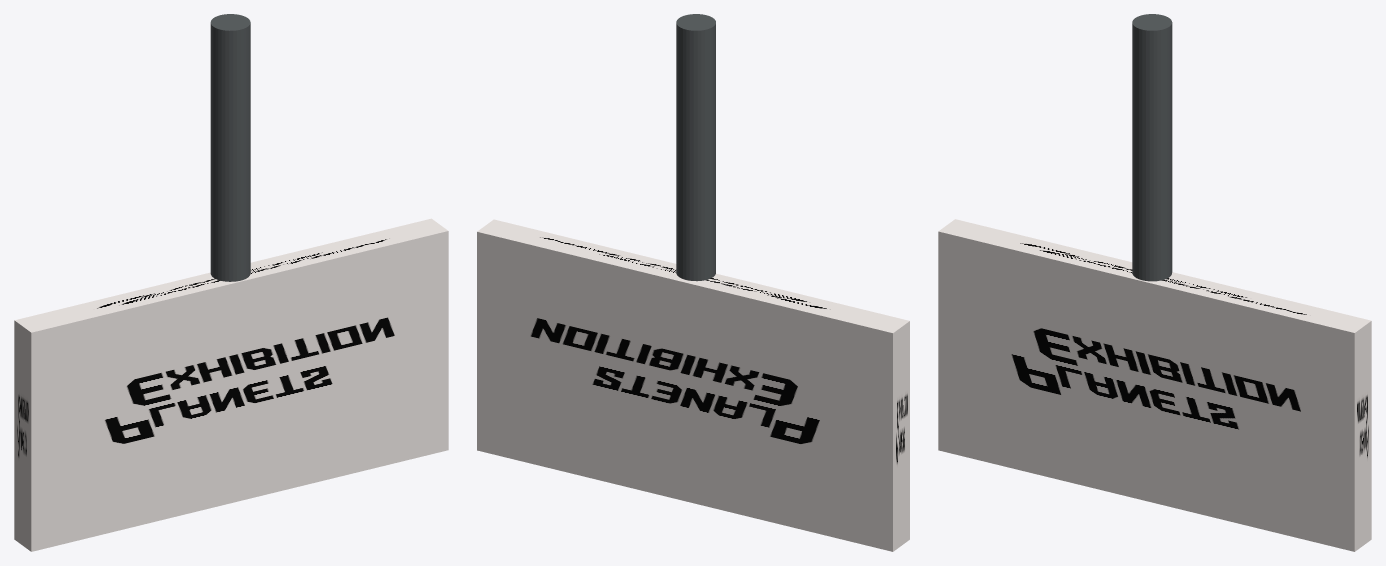
File: planetssign.glb
The picture shows the model from 3 angles, left to right: view 1: azimuth 30°, elevation 25°; view 2: azimuth 150°, elevation 25°; view 3: azimuth 330°, elevation 25°; orthographic projection.
Visible parts, largest first — view 1: Cube, Cylinder; view 2: Cube, Cylinder; view 3: Cube, Cylinder.
Part boxes in pixels (<box>): Cube: <box>14,218,448,551</box>; Cylinder: <box>210,14,250,281</box>; Cube: <box>477,219,909,551</box>; Cylinder: <box>676,14,715,281</box>; Cube: <box>938,219,1371,551</box>; Cylinder: <box>1132,14,1172,281</box>.
Size of the model in its own units: 3.98 by 4.32 by 0.3302.
Materials: 2 (2 with a texture image).
